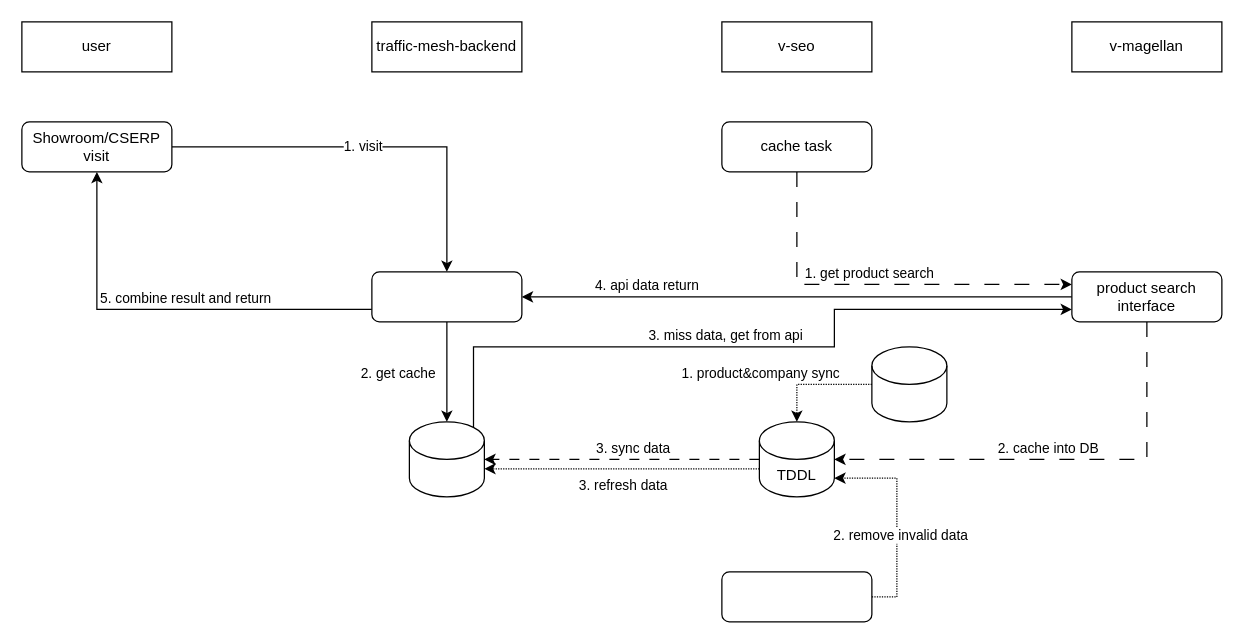
Image size: 1244x644. Some labels were removed from this diagram. The shapes that lost their labels are listed below. From the top down, each one's box as (x1, y1, x2, y2) in pixels, then its label:
(371, 271, 522, 322): Showroom/CSERP controller
(871, 346, 947, 422): ODPS
(408, 421, 484, 497): postgres
(721, 571, 872, 622): refresh task
